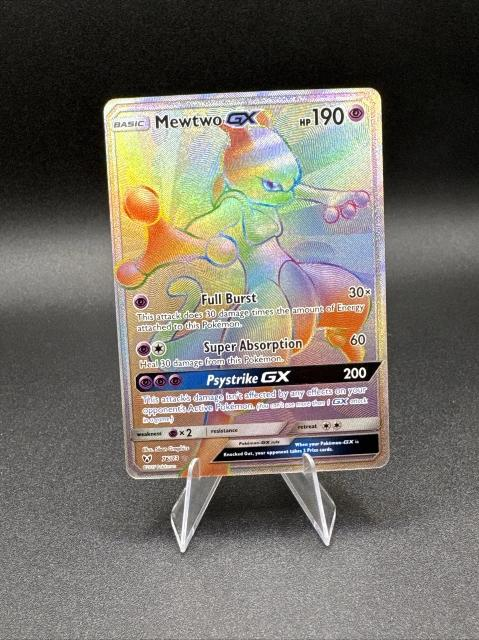Card: (97, 83, 394, 485)
Name: (151, 103, 268, 134)
